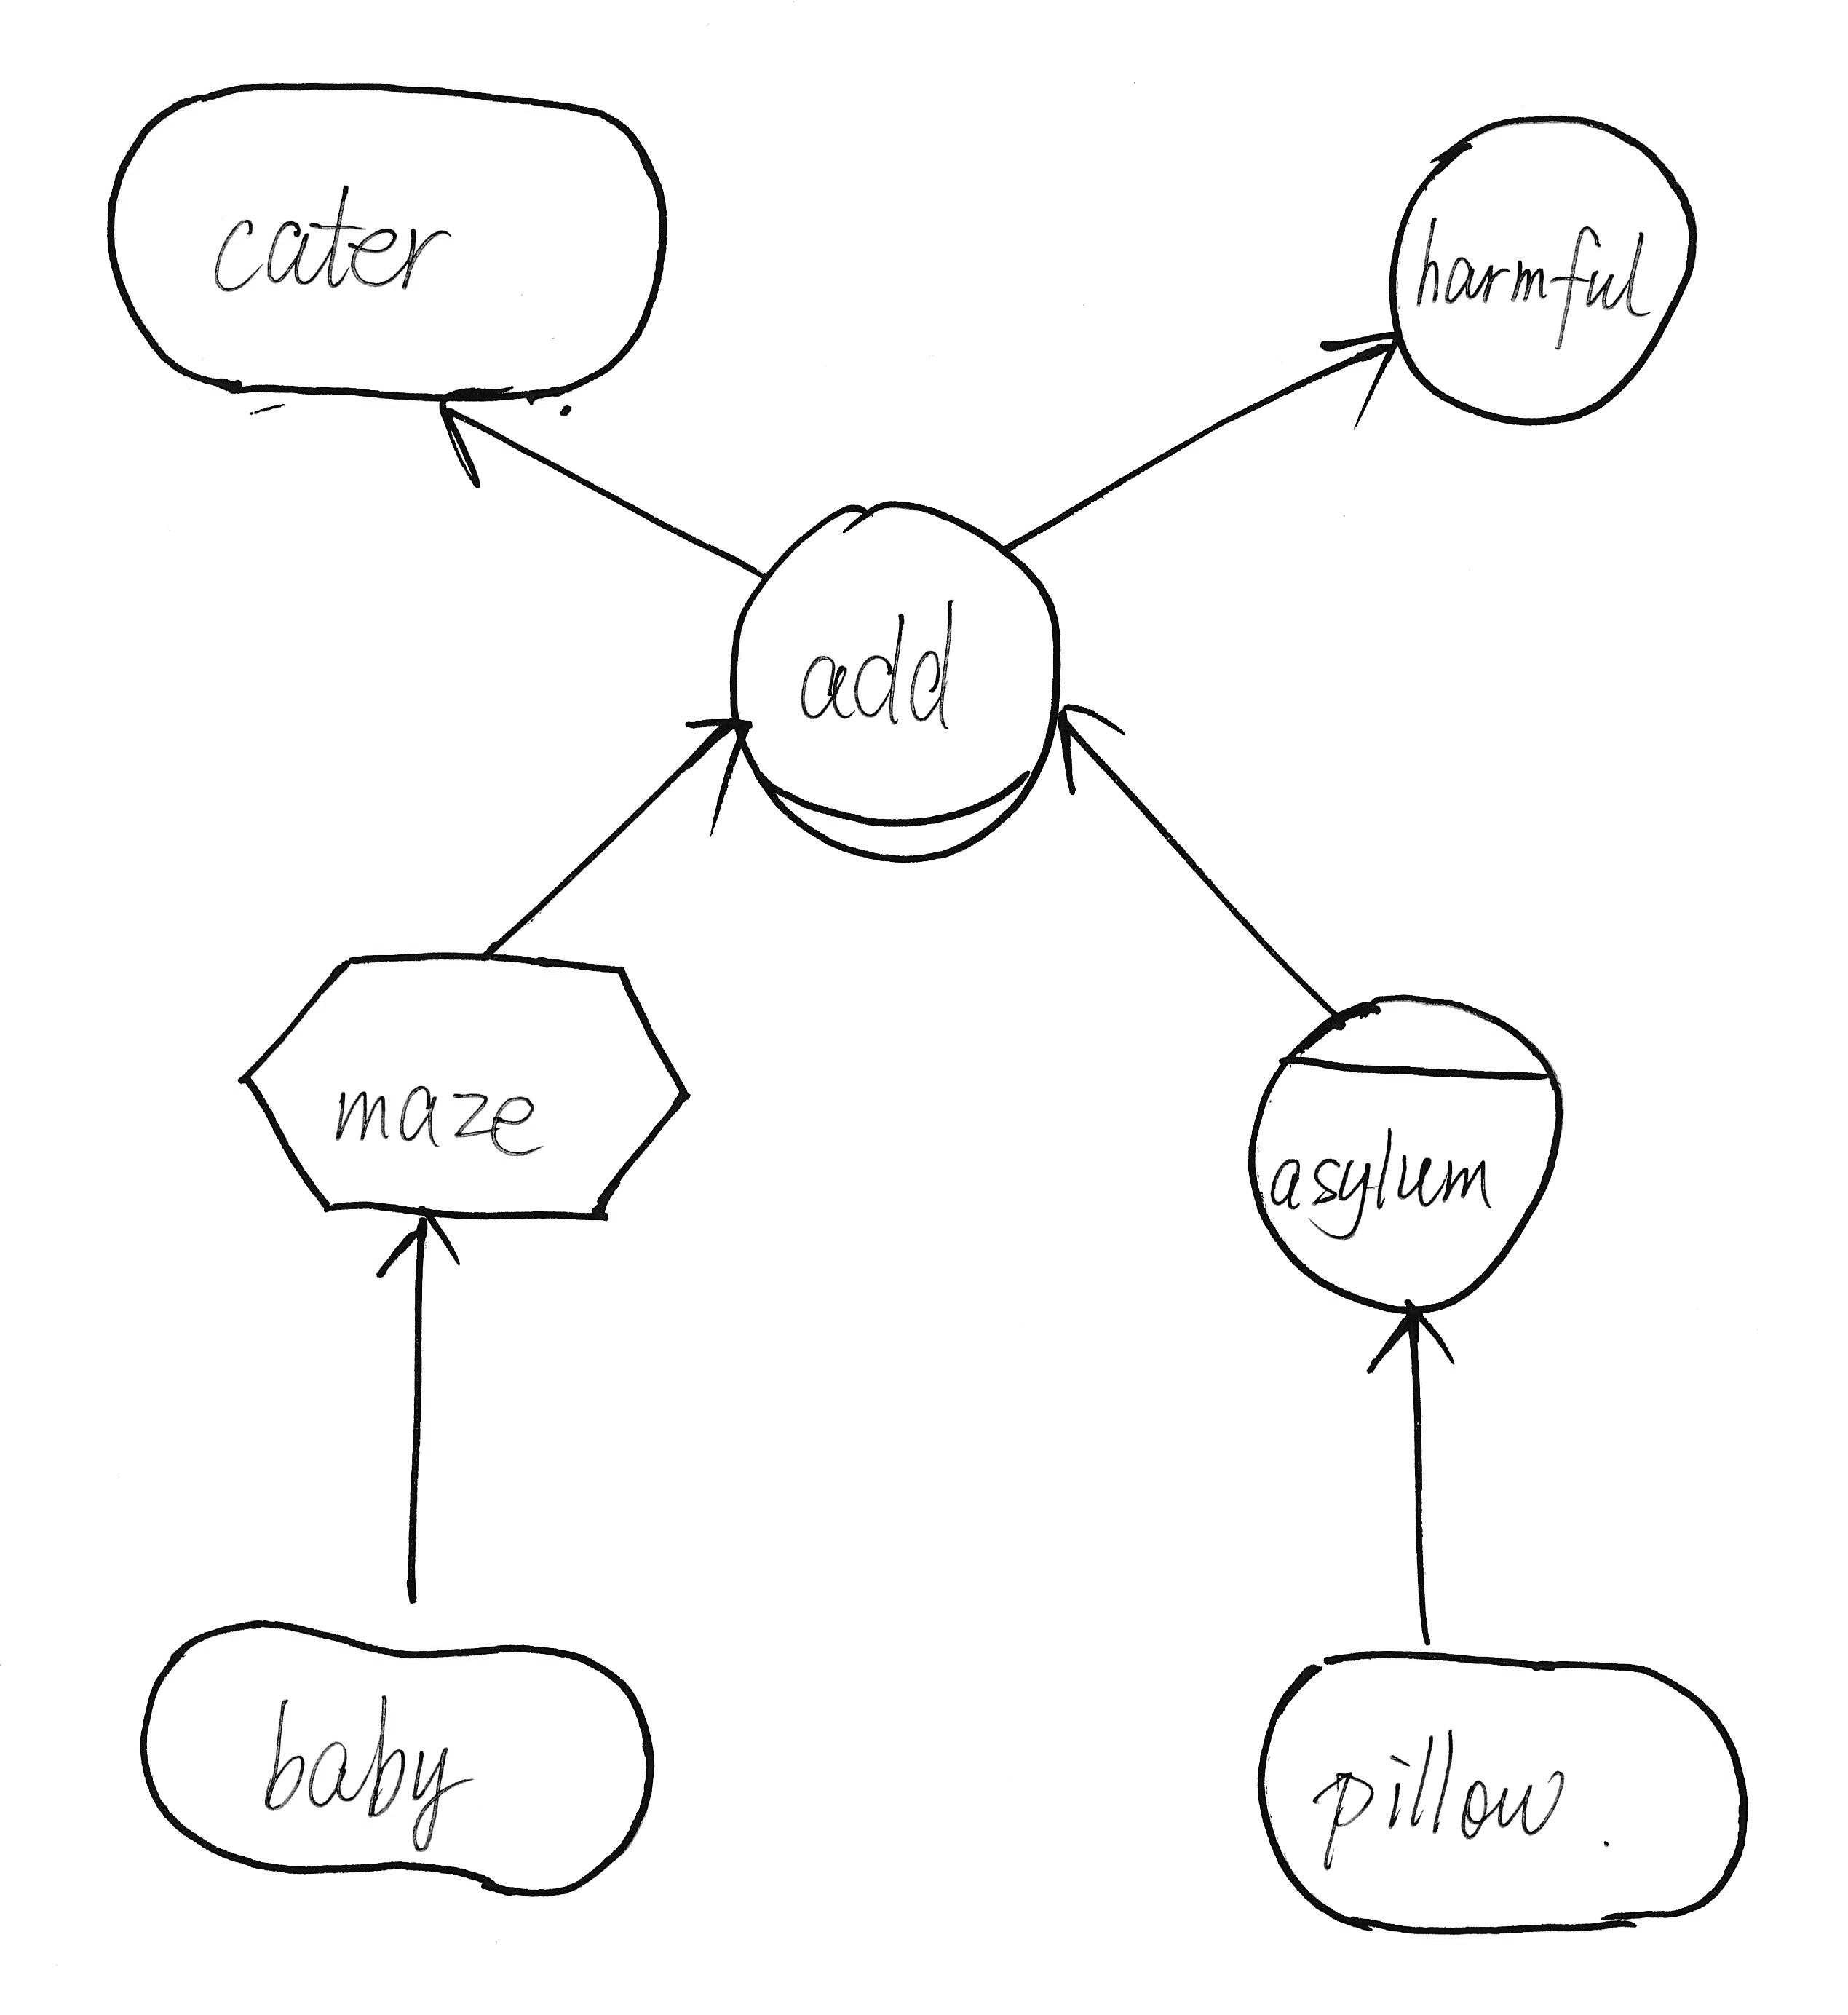actor: (1371, 91, 1716, 451)
agent: (1223, 974, 1583, 1336)
arrow: (414, 372, 534, 497), (1307, 298, 1409, 444), (674, 693, 763, 853), (363, 1201, 500, 1294), (1041, 683, 1130, 818), (1360, 1294, 1478, 1394)
goal: (84, 53, 690, 418), (1244, 1631, 1781, 1952)
quality: (119, 1592, 686, 1918)
role: (713, 483, 1088, 876)
task: (216, 934, 721, 1248)
